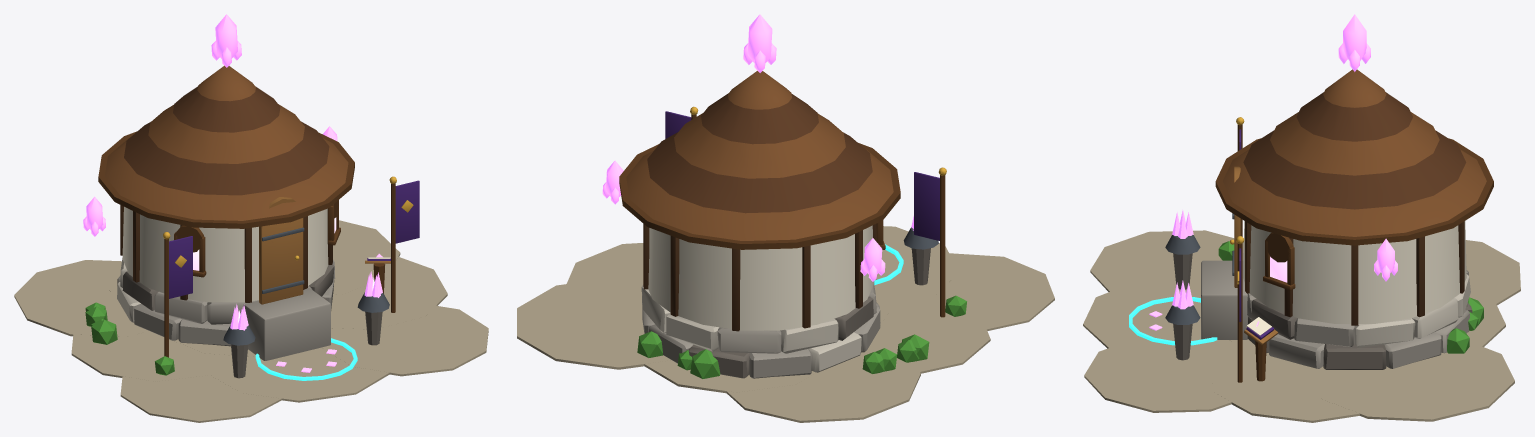
Rendered from budynek_fuzji_poz10.glb.
The picture shows the model from 3 angles, left to right: view 1: azimuth 30°, elevation 25°; view 2: azimuth 150°, elevation 25°; view 3: azimuth 270°, elevation 25°; orthographic projection. The views are drawn at different scales.
Parts seen in each view (by area): view 1: budynek_fuzji_poz10; view 2: budynek_fuzji_poz10; view 3: budynek_fuzji_poz10.
Boxes of the visible parts, x1,y1,x2,y2 form: budynek_fuzji_poz10: (14,14,488,422); budynek_fuzji_poz10: (517,14,1054,422); budynek_fuzji_poz10: (1083,14,1520,422).
Bounding box in the file's own units: 8.65 × 6.72 × 8.4.
